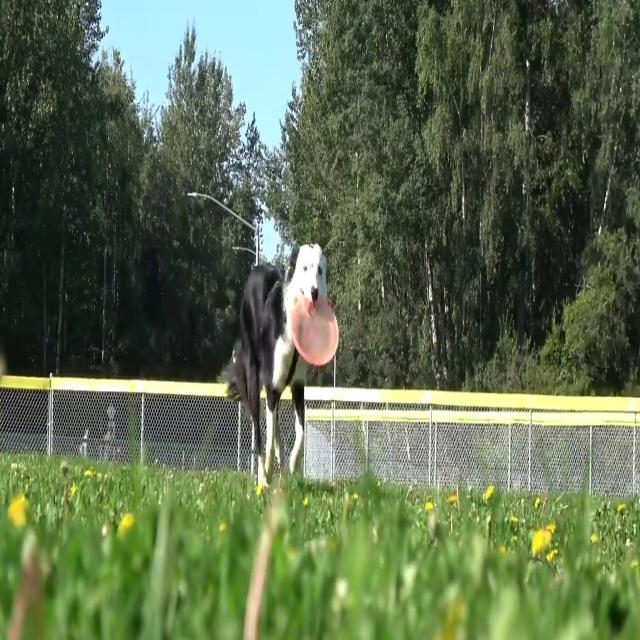Dog: (224, 240, 340, 486)
